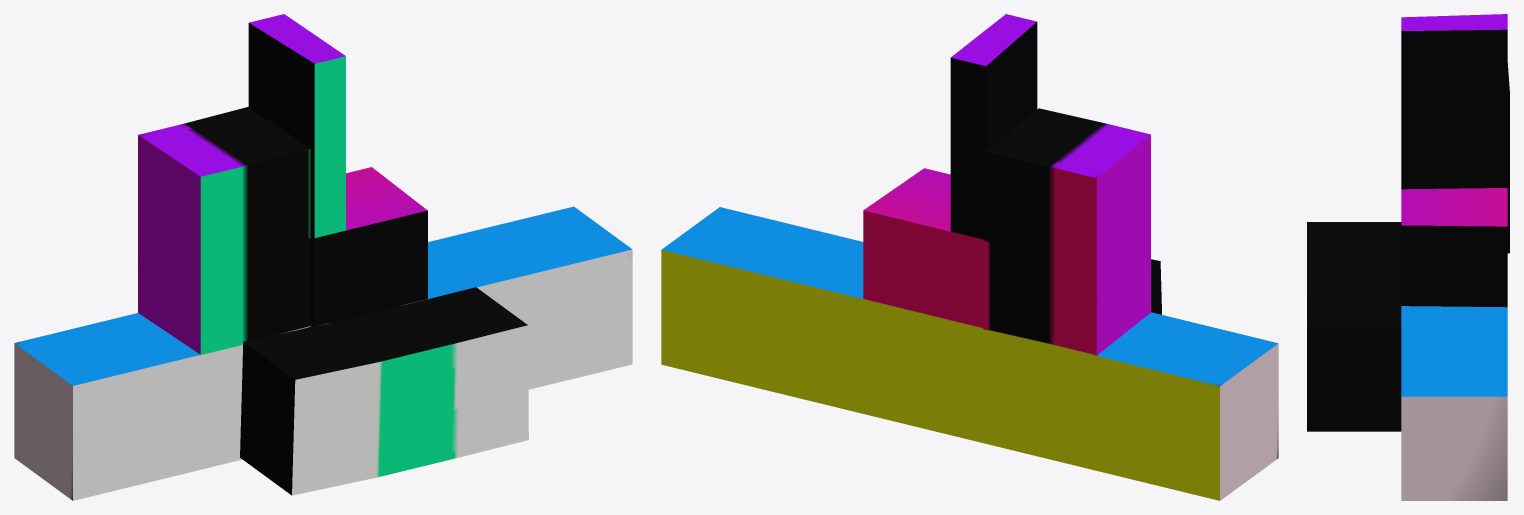
The model's file is IIT Kharagpur do 1.fbx.
3 views of the same model, side by side, from view 1: azimuth 30°, elevation 25°; view 2: azimuth 150°, elevation 25°; view 3: azimuth 270°, elevation 25° (orthographic). The views are drawn at different scales.
Parts seen in each view (by area): view 1: Cube; view 2: Cube; view 3: Cube.
Part boxes in pixels (x1,y1,x2,y2): Cube: (14, 14, 632, 500); Cube: (661, 14, 1278, 500); Cube: (1307, 14, 1509, 500).
Bounding box in the file's own units: 2323 × 1500 × 804.
